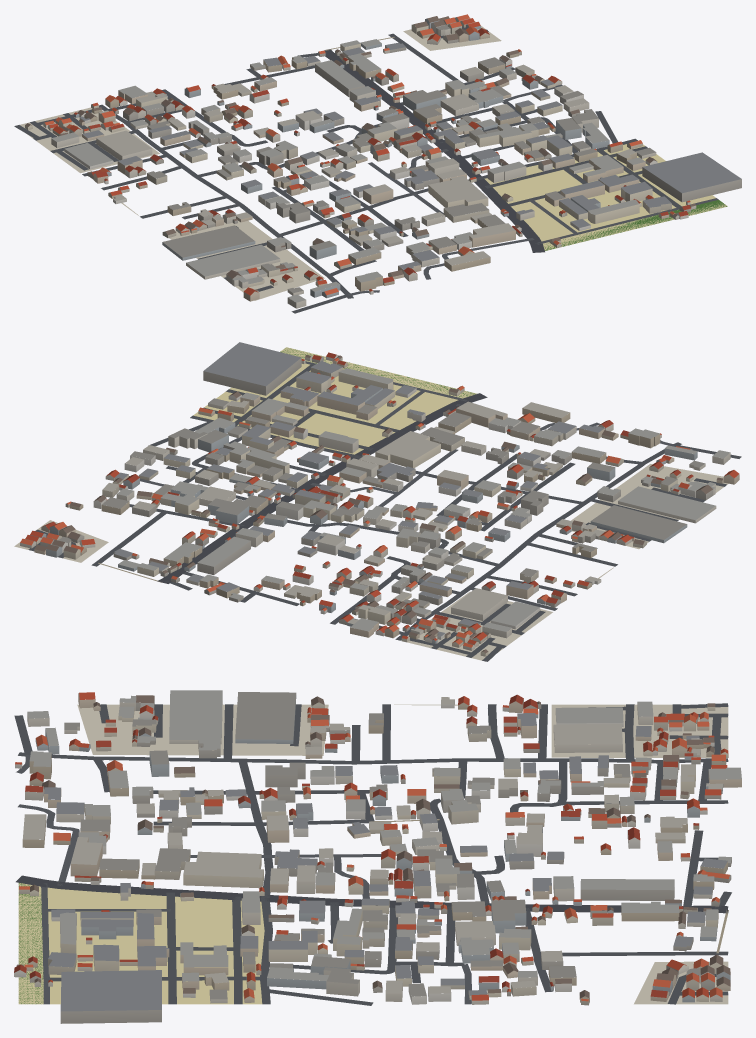
3 renders of one model, top to bottom at view 1: azimuth 30°, elevation 25°; view 2: azimuth 150°, elevation 25°; view 3: azimuth 270°, elevation 25°, orthographic. The views are drawn at different scales.
Parts seen in each view (by area): view 1: buildings_roofs, buildings_walls, roads, landuse; view 2: buildings_roofs, buildings_walls, roads, landuse; view 3: buildings_roofs, buildings_walls, roads, landuse.
Boxes of the visible parts, left/top/right/bottom form: buildings_roofs: left=25, top=14, right=741, bottom=302; buildings_walls: left=25, top=17, right=741, bottom=308; roads: left=14, top=26, right=718, bottom=313; landuse: left=20, top=17, right=727, bottom=300; buildings_roofs: left=20, top=342, right=739, bottom=653; buildings_walls: left=20, top=355, right=739, bottom=656; roads: left=28, top=361, right=741, bottom=661; landuse: left=14, top=347, right=728, bottom=660; buildings_roofs: left=14, top=690, right=741, bottom=1011; buildings_walls: left=14, top=693, right=741, bottom=1023; roads: left=14, top=703, right=731, bottom=1005; landuse: left=18, top=704, right=728, bottom=1004.
Bounding box in the file's own units: 550 × 9.75 × 513.
